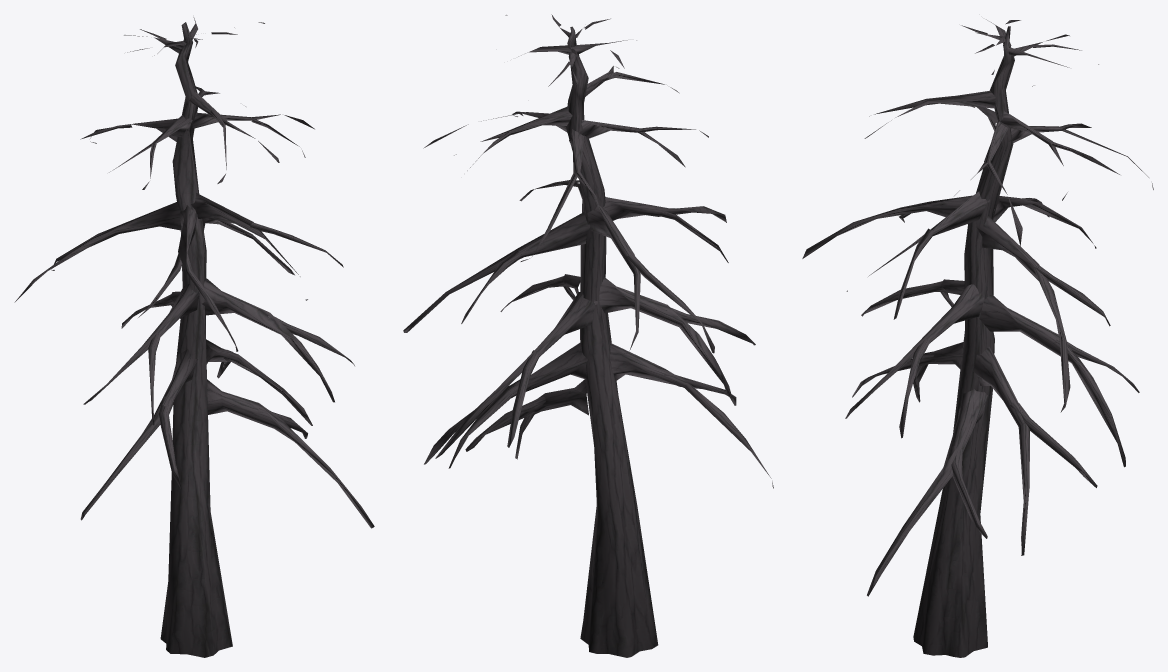
File: dead_tree_free_model_b_b_b_b_lo.glb
3 views of the same model, side by side, from view 1: azimuth 30°, elevation 25°; view 2: azimuth 150°, elevation 25°; view 3: azimuth 270°, elevation 25° (orthographic). The views are drawn at different scales.
Parts seen in each view (by area): view 1: DeadTree_5; view 2: DeadTree_5; view 3: DeadTree_5.
Part boxes in pixels (<box>): DeadTree_5: <box>14,17,374,657</box>; DeadTree_5: <box>403,14,773,657</box>; DeadTree_5: <box>802,19,1153,657</box>.
Bounding box in the file's own units: 8.34 × 16.44 × 8.39.
1 material, 1 textured.
